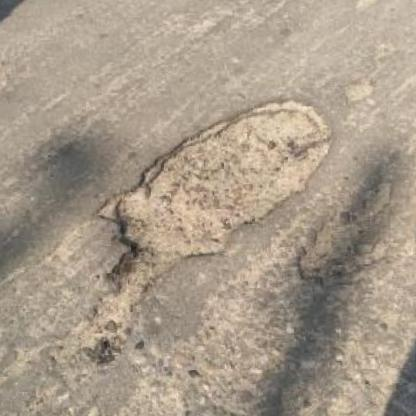pothole: (74, 93, 340, 329), (292, 174, 402, 285), (339, 76, 376, 103), (0, 58, 17, 113)
